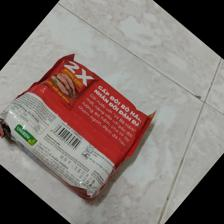3mien: (1, 53, 157, 201)
